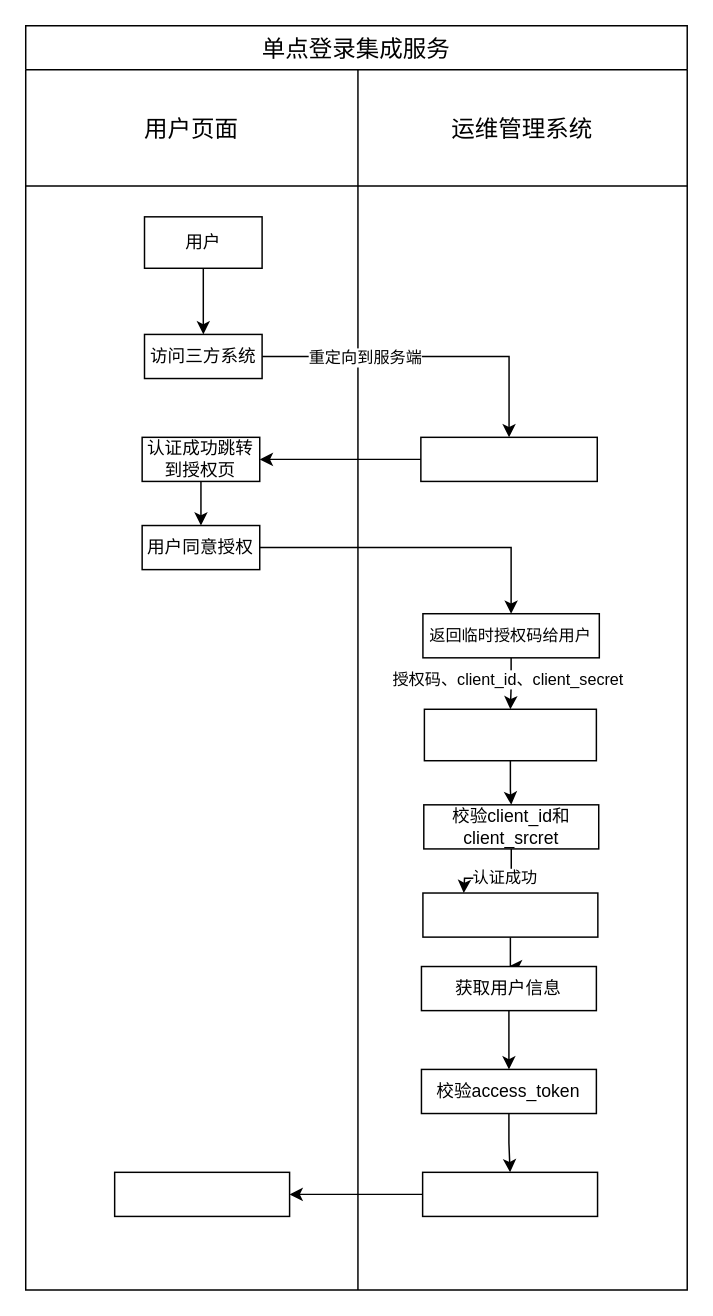
The diagram is 713 pixels wide and 1316 high, and some of its shapes have lost their labels. The shapes that lost their labels are listed below. From the top down, each one's centre as x and y in pixels, then its label:
point (508, 458): 校验client_id
point (509, 734): 三方系统向服务端授权access_token
point (509, 914): 返回access_token
point (201, 1193): 跳转到用户请求
point (509, 1193): 返回用户信息
